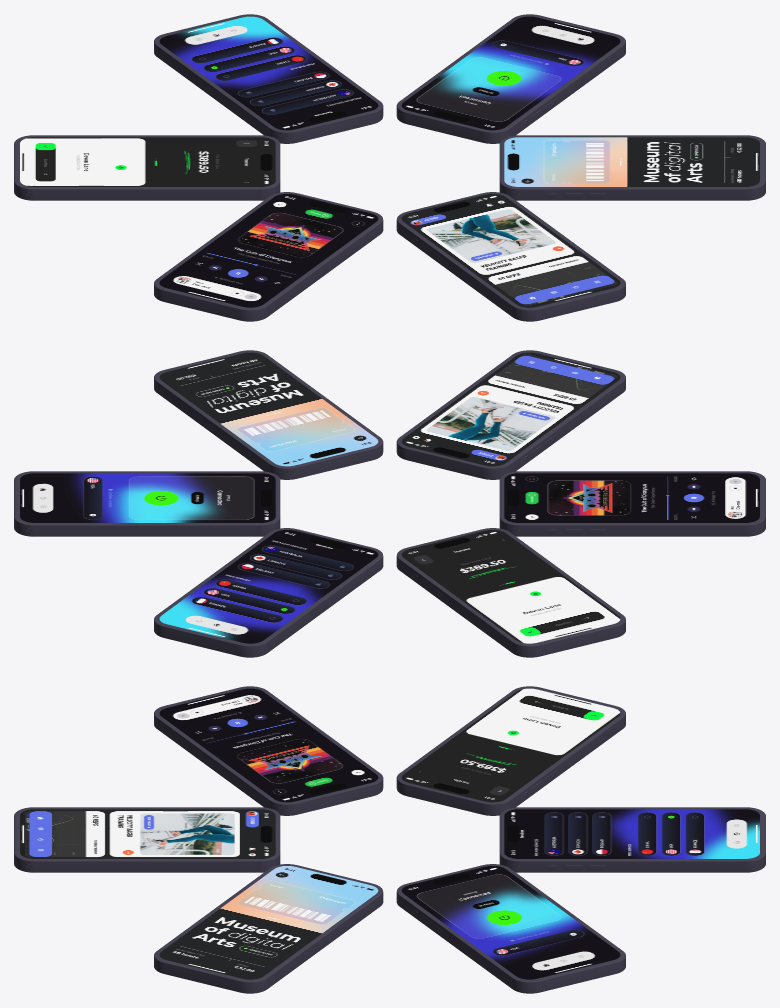
Rendered from iphones_scene.glb.
3 renders of one model, top to bottom at view 1: azimuth 30°, elevation 25°; view 2: azimuth 150°, elevation 25°; view 3: azimuth 270°, elevation 25°, orthographic.
Parts seen in each view (by area): view 1: Phone1.001, Phone1.004, Phone1, Phone1.005, Phone1.002, Phone1.003; view 2: Phone1.002, Phone1.005, Phone1.003, Phone1.004, Phone1, Phone1.001; view 3: Phone1, Phone1.003, Phone1.001, Phone1.002, Phone1.004, Phone1.005.
Boxes of the visible parts, box(x1,y1,x2,y2) form: Phone1.001: box(499, 135, 765, 200); Phone1.004: box(14, 135, 280, 200); Phone1: box(396, 192, 625, 321); Phone1.005: box(154, 192, 383, 321); Phone1.002: box(396, 14, 625, 143); Phone1.003: box(154, 14, 383, 143); Phone1.002: box(14, 471, 280, 536); Phone1.005: box(499, 471, 765, 536); Phone1.003: box(154, 528, 383, 657); Phone1.004: box(396, 528, 625, 657); Phone1: box(396, 350, 625, 479); Phone1.001: box(154, 350, 383, 479); Phone1: box(14, 807, 280, 872); Phone1.003: box(499, 807, 765, 872); Phone1.001: box(154, 864, 383, 993); Phone1.002: box(396, 864, 625, 993); Phone1.004: box(396, 686, 625, 815); Phone1.005: box(154, 686, 383, 815).
Bounding box in the file's own units: 4.42 × 0.0819 × 4.75.
Materials: 8 (6 with a texture image).
